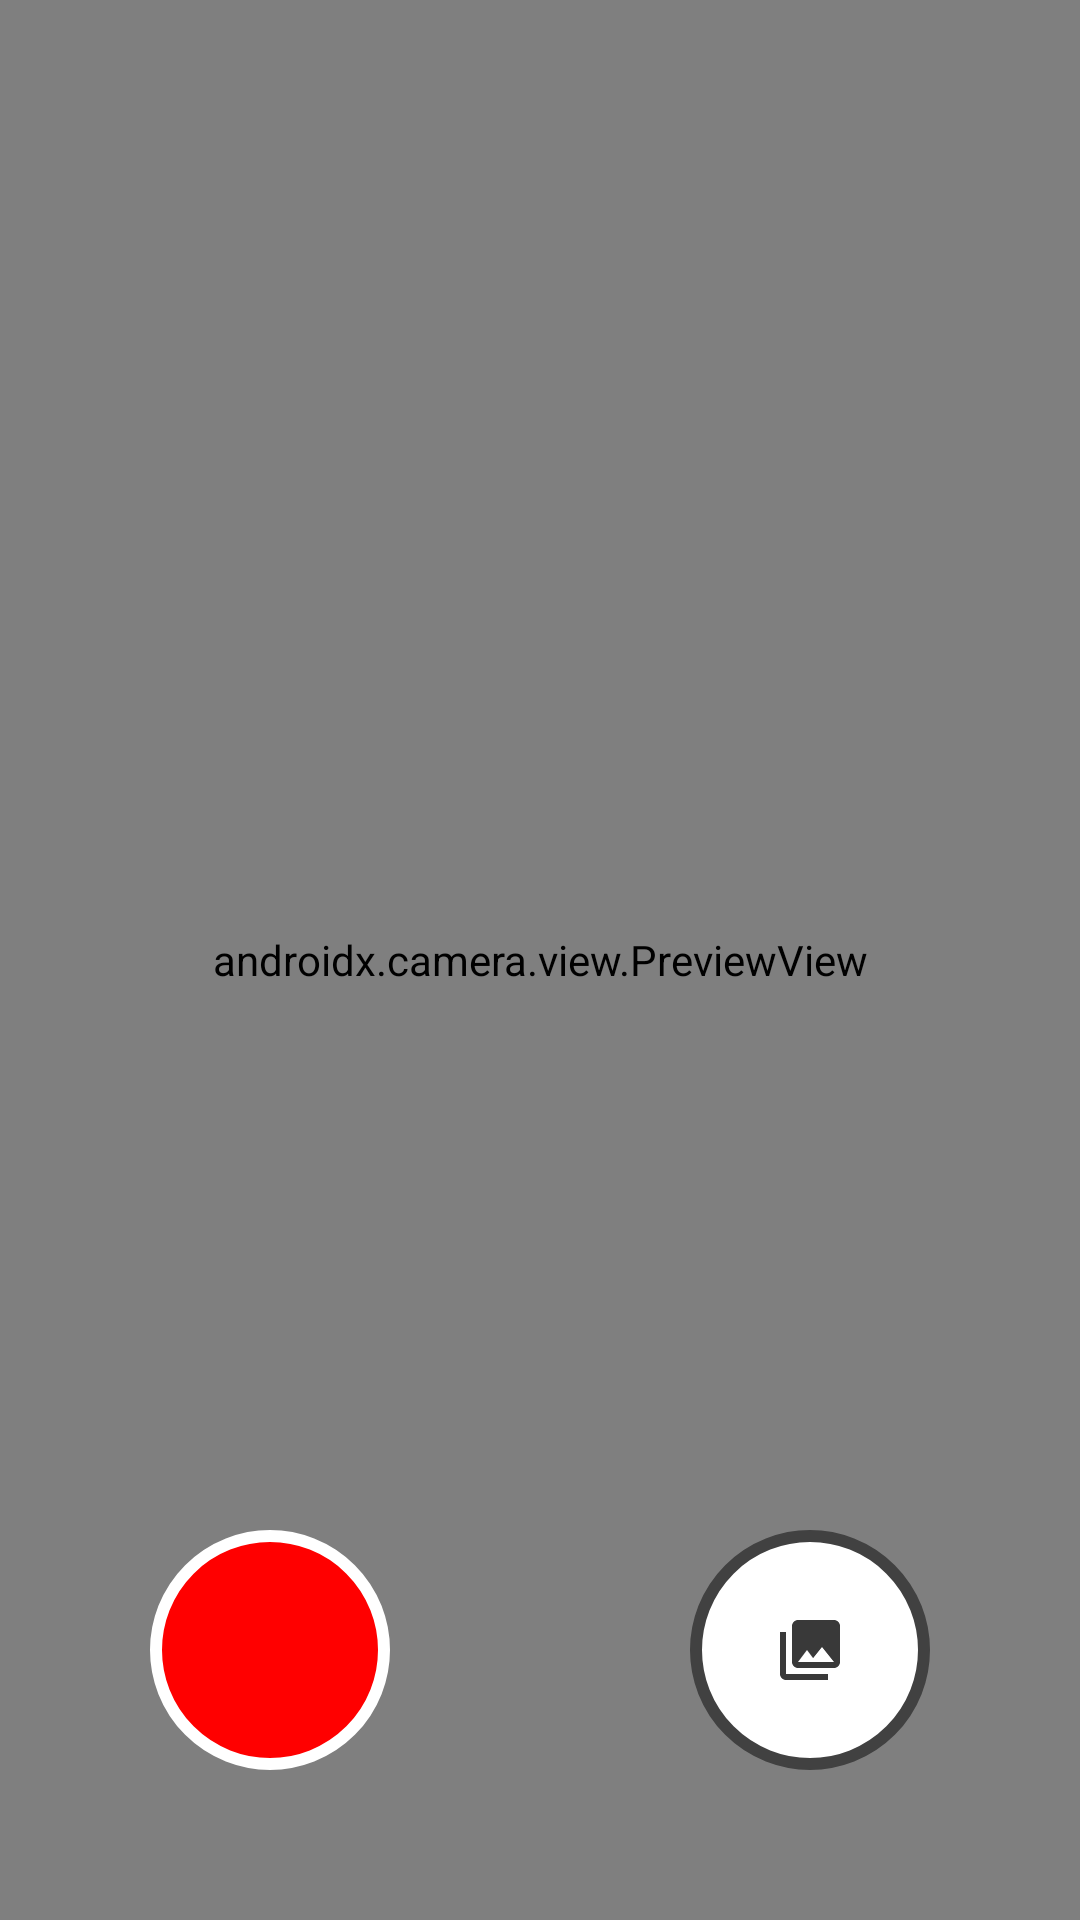

Where icons sit on this 1080w x 1920h app screen, as (x1, y1, x2, y2):
gallery: (690, 1530, 930, 1770)
